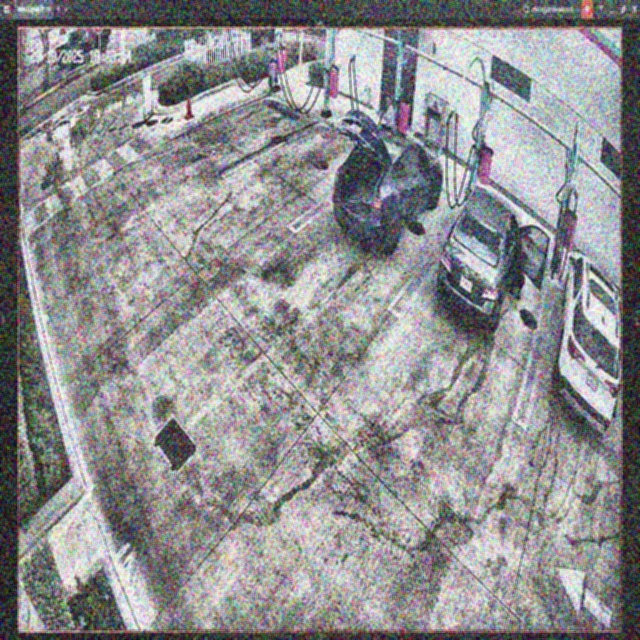Car: (335, 108, 444, 253), (438, 185, 545, 322)
